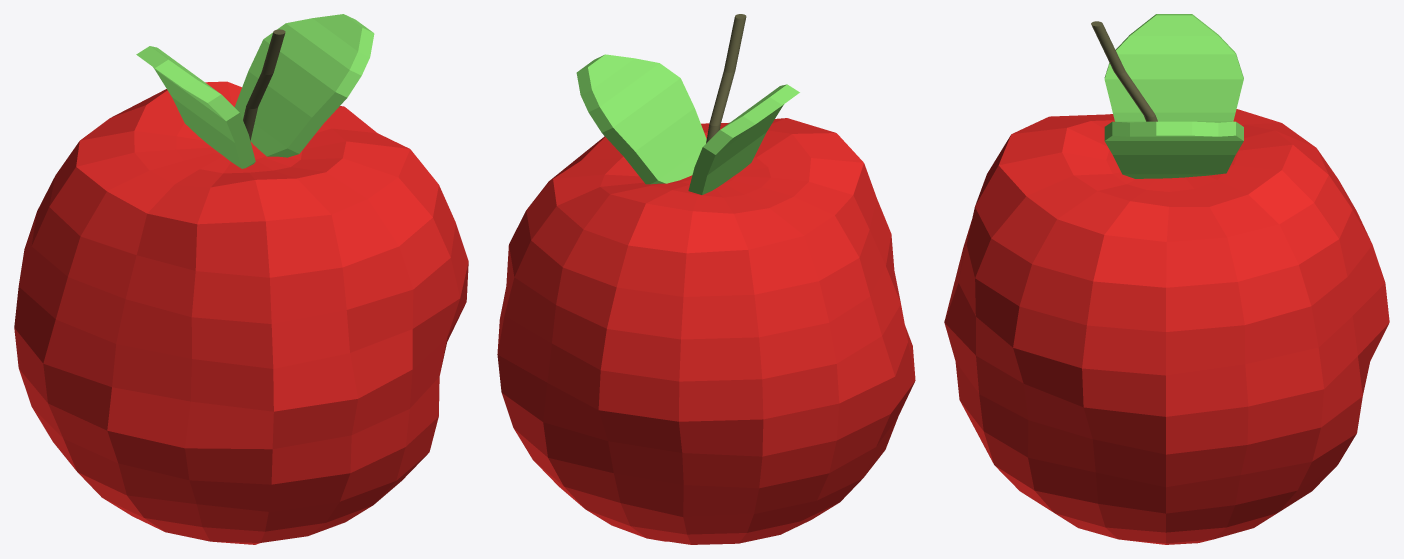
Rendered from apple.glb.
3 renders of one model, left to right at view 1: azimuth 30°, elevation 25°; view 2: azimuth 150°, elevation 25°; view 3: azimuth 270°, elevation 25°, orthographic. The views are drawn at different scales.
Parts seen in each view (by area): view 1: Plane; view 2: Plane; view 3: Plane.
Part boxes in pixels (x1,y1,x2,y2): Plane: (14,14,468,544); Plane: (497,14,915,544); Plane: (944,14,1389,544).
Bounding box in the file's own units: 2 × 2.4 × 1.99.
